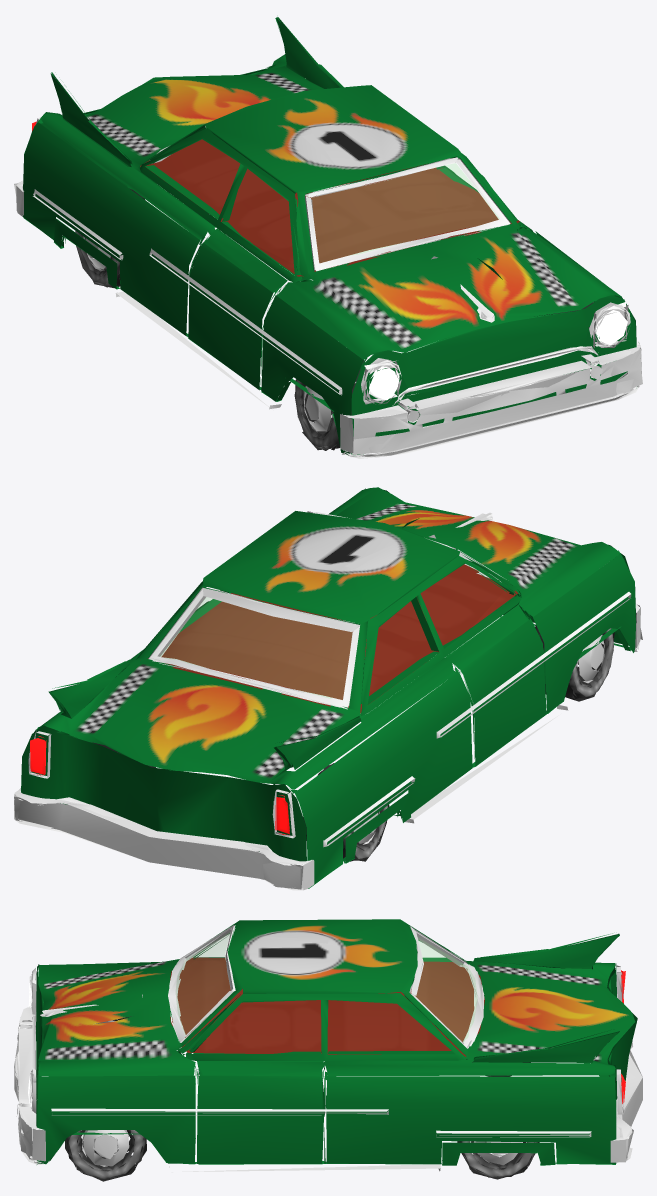
File: trafico-toy.glb
3 views of the same model, one above another, from view 1: azimuth 30°, elevation 25°; view 2: azimuth 150°, elevation 25°; view 3: azimuth 270°, elevation 25° (orthographic). The views are drawn at different scales.
Visible parts, largest first — view 1: ToyCar, Glass; view 2: ToyCar, Glass; view 3: ToyCar, Glass.
Part boxes in pixels (bbox=[...]): ToyCar: bbox=[14, 17, 642, 458]; Glass: bbox=[311, 163, 499, 262]; ToyCar: bbox=[14, 487, 642, 890]; Glass: bbox=[159, 597, 351, 699]; ToyCar: bbox=[14, 919, 642, 1181]; Glass: bbox=[176, 932, 477, 1042].
Bounding box in the file's own units: 0.0187 × 0.0116 × 0.0384.
2 materials, 1 textured.
